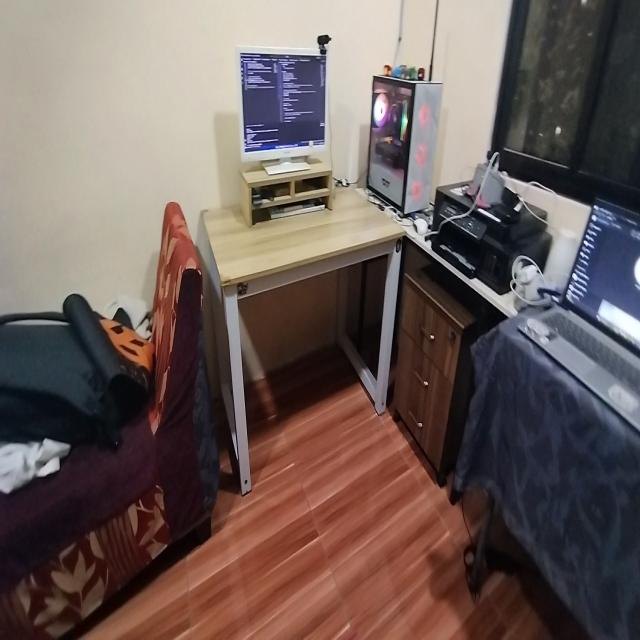table: (197, 185, 407, 498)
